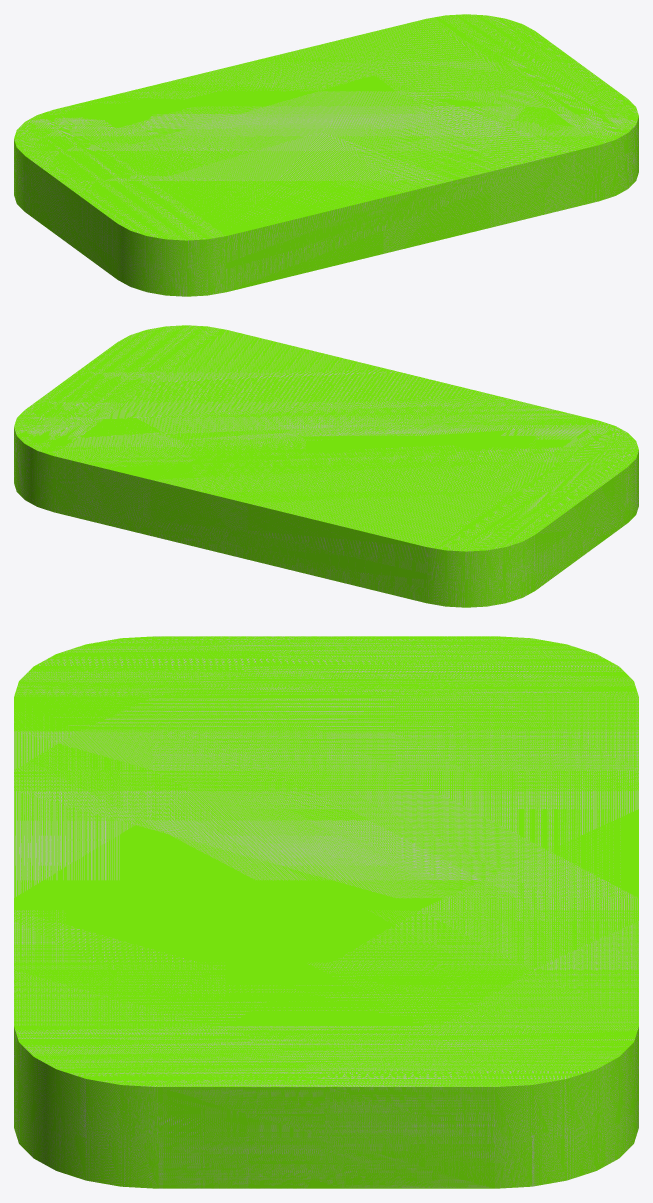
Rendered from original-95.obj.
3 renders of one model, top to bottom at view 1: azimuth 30°, elevation 25°; view 2: azimuth 150°, elevation 25°; view 3: azimuth 270°, elevation 25°, orthographic. The views are drawn at different scales.
Visible parts, largest first — view 1: mesh93/mesh93-geometry#mesh93-geometry; view 2: mesh93/mesh93-geometry#mesh93-geometry; view 3: mesh93/mesh93-geometry#mesh93-geometry.
Part boxes in pixels (x1,y1,x2,y2): mesh93/mesh93-geometry#mesh93-geometry: (14,14,638,296); mesh93/mesh93-geometry#mesh93-geometry: (14,325,638,607); mesh93/mesh93-geometry#mesh93-geometry: (14,636,638,1188).
Bounding box in the file's own units: 0.0496 × 0.00522 × 0.0291.
